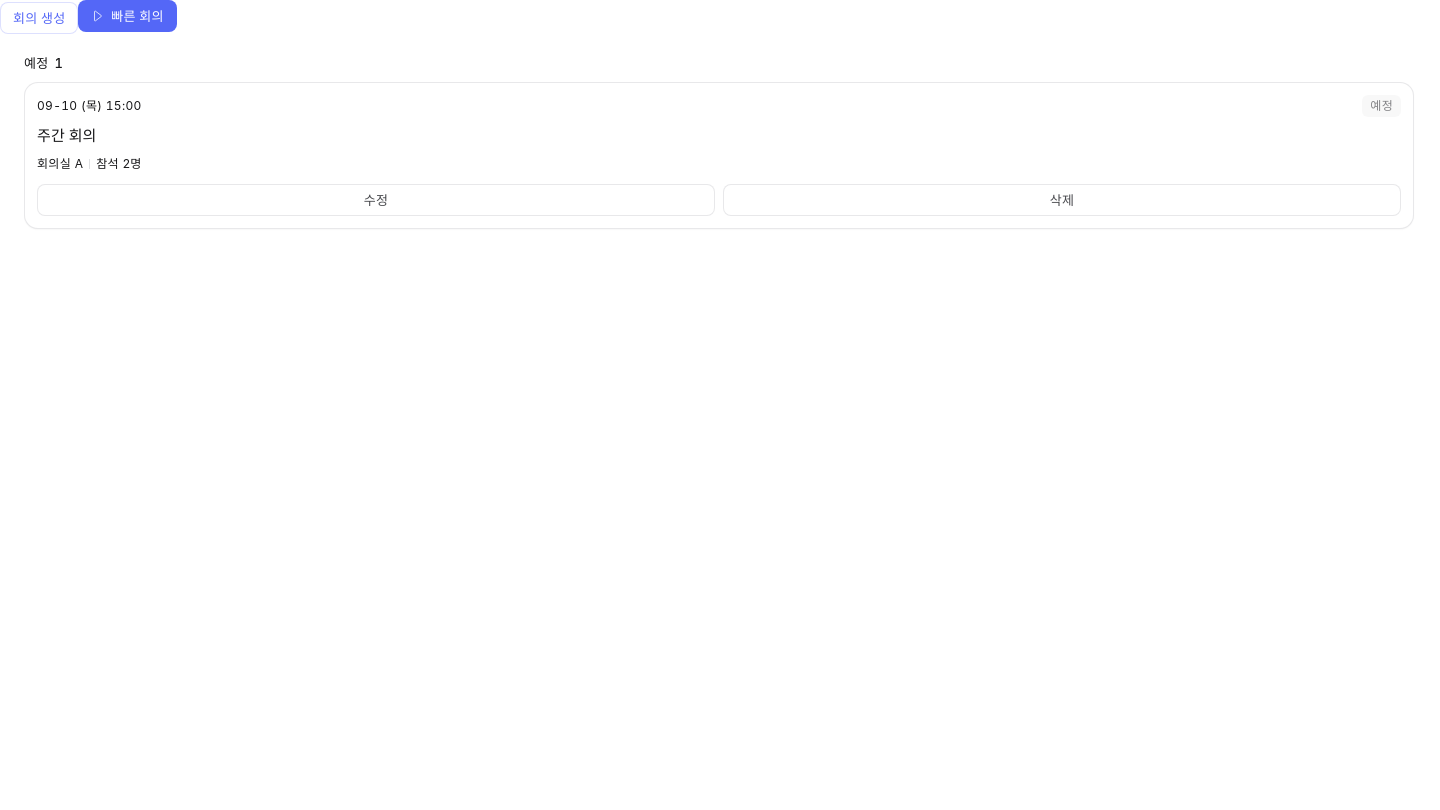
it: 회의 정보 수정 — 목록 카드의 [수정]이 여는 모달 › 서버가 못 고친다고 하면 칸을 열지 않는다 — 행의 상태로 넘겨짚지 않는다
The image size is (1440, 810).
Click the button "수정" at [376, 200], box x1=37 y1=184 x2=715 y2=216
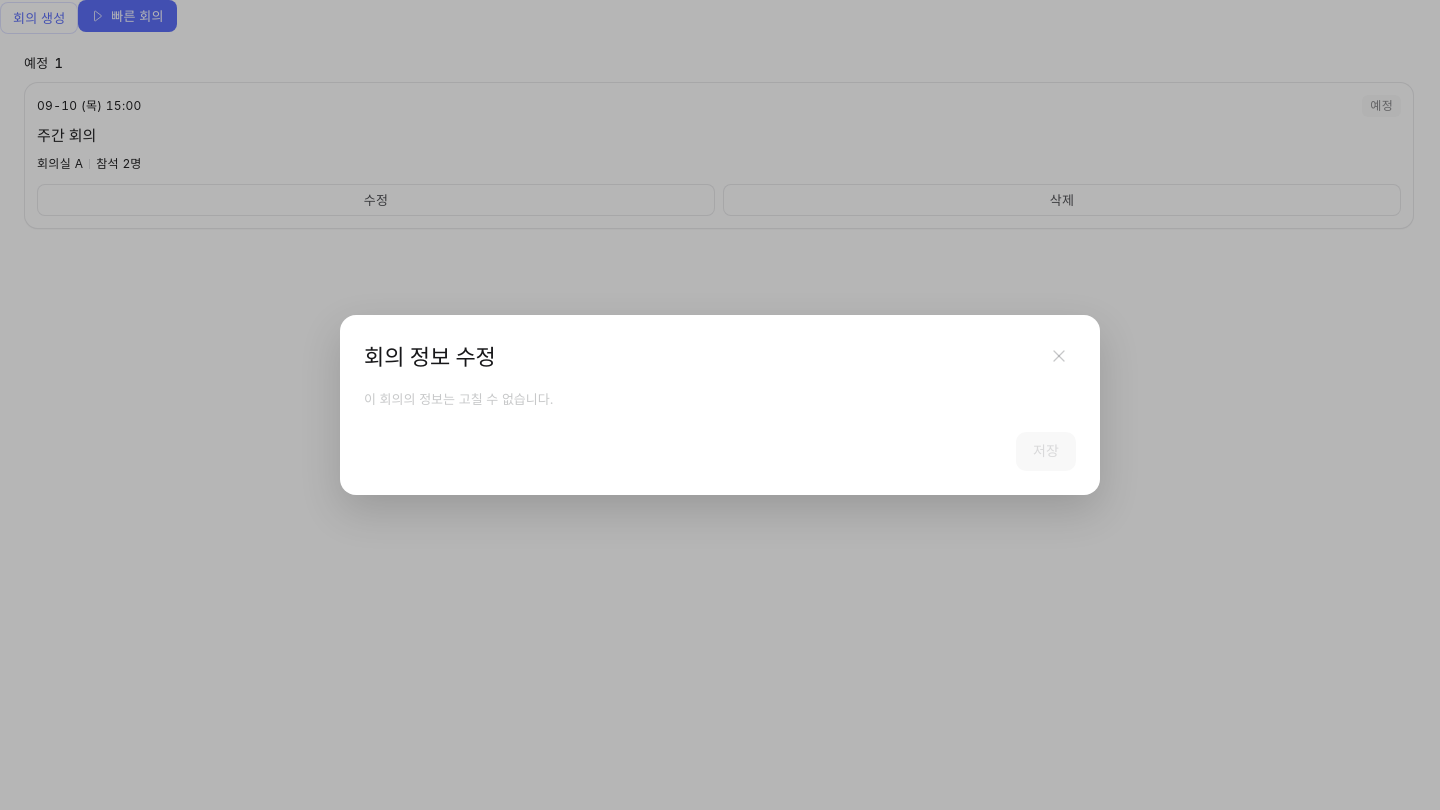
Expected: the text "이 회의의 정보는 고칠 수 없습니다." is shown, x1=364 y1=391 x2=554 y2=407
Expected: the button "저장" is disabled, x1=1016 y1=432 x2=1076 y2=471
